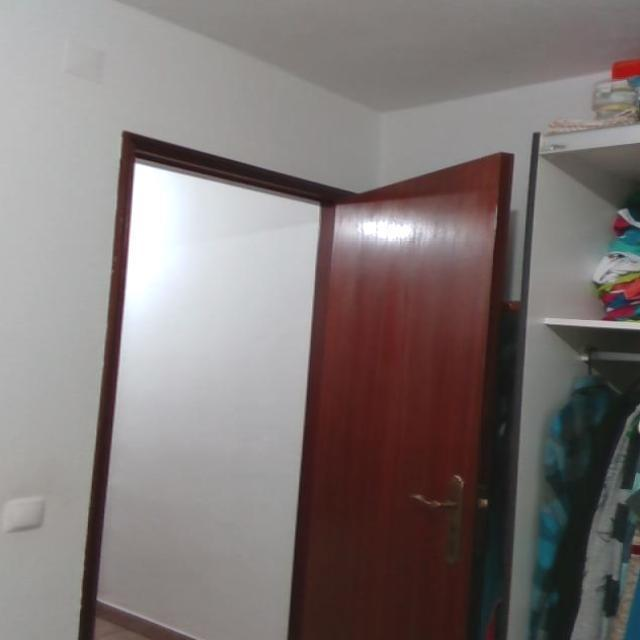door: (292, 128, 520, 640)
